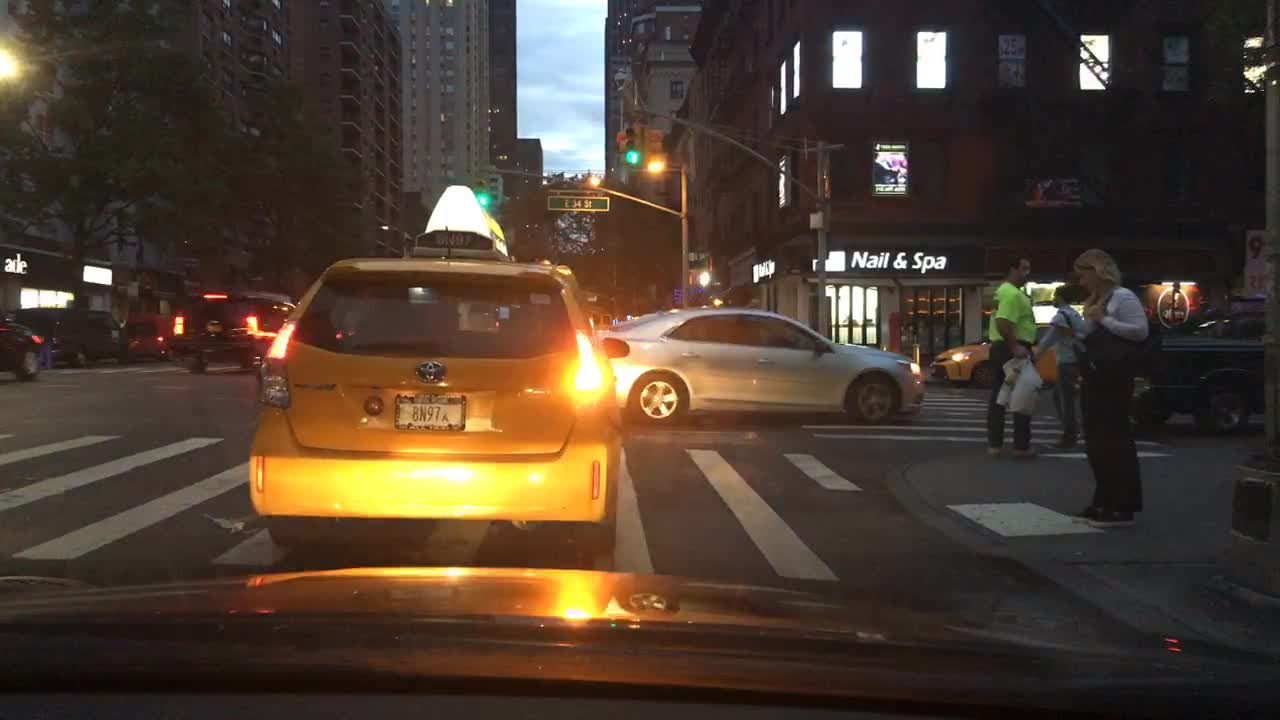bus: (579, 290, 614, 330)
car: (245, 184, 629, 553), (597, 306, 926, 427), (1126, 307, 1277, 439), (167, 288, 296, 372), (926, 321, 1057, 388), (14, 305, 122, 368), (0, 313, 42, 379), (122, 310, 171, 363)
person: (1055, 247, 1147, 527), (978, 254, 1050, 457), (1030, 281, 1090, 450)
traffic light: (642, 126, 665, 172), (623, 122, 641, 165), (486, 172, 502, 210), (613, 127, 625, 167), (472, 177, 487, 205), (686, 269, 699, 289), (698, 270, 714, 286)
traffic sign: (545, 195, 610, 212), (810, 211, 825, 231)
